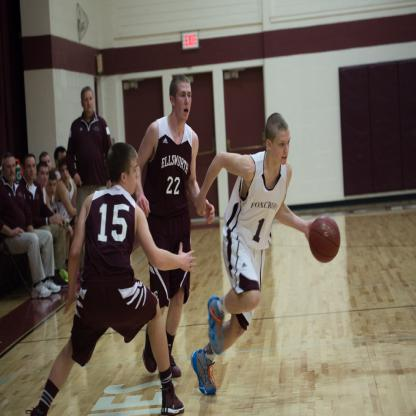Ball: (308, 216, 340, 262)
